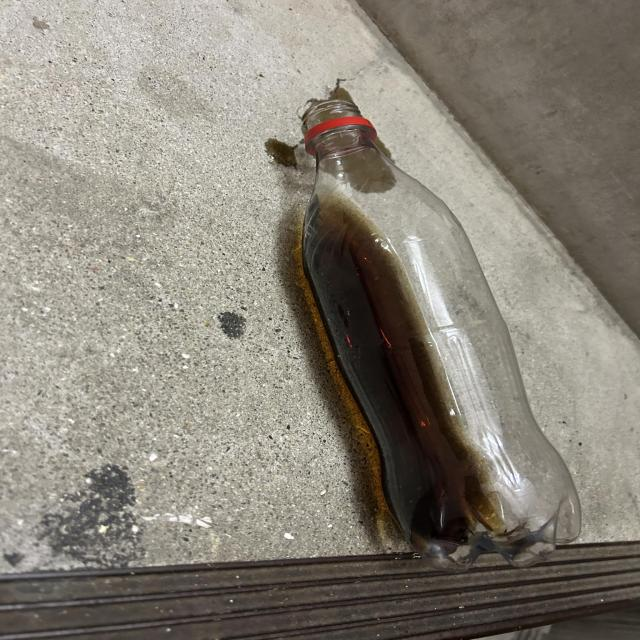low: (302, 99, 580, 568)
